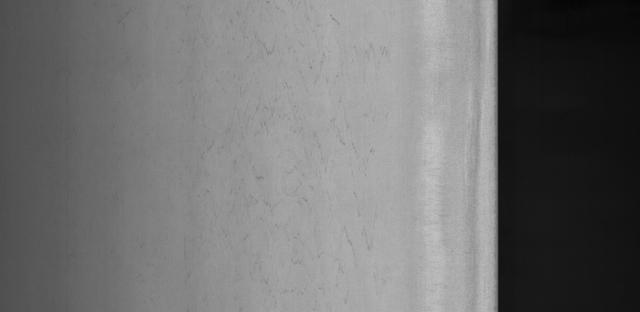silk_spot: (194, 16, 361, 274)
